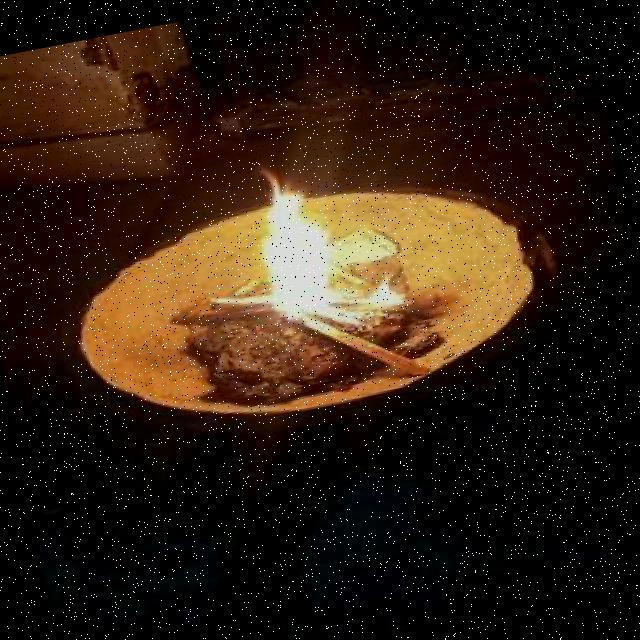Fire: (243, 168, 422, 358)
